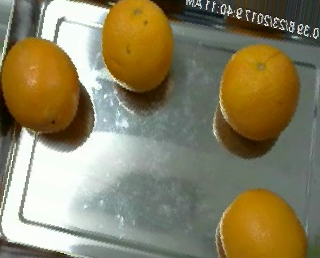Orange: (217, 42, 300, 142), (1, 36, 78, 134), (102, 1, 173, 91), (219, 188, 307, 258)
